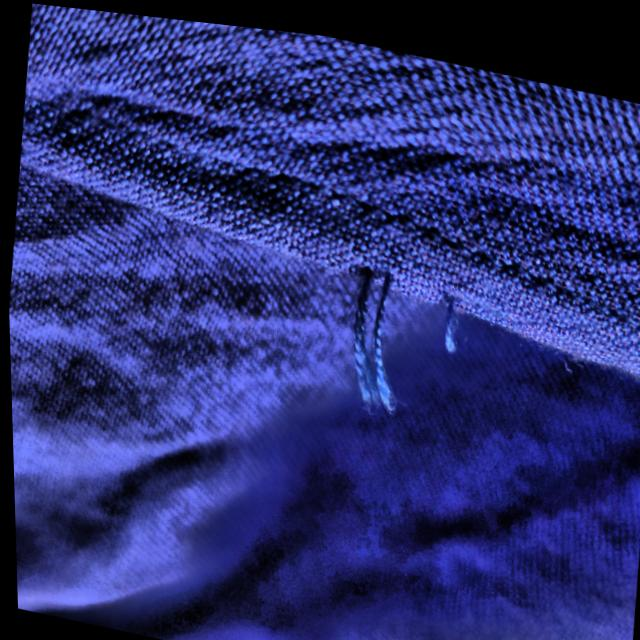Stitch: (268, 187, 537, 478)
